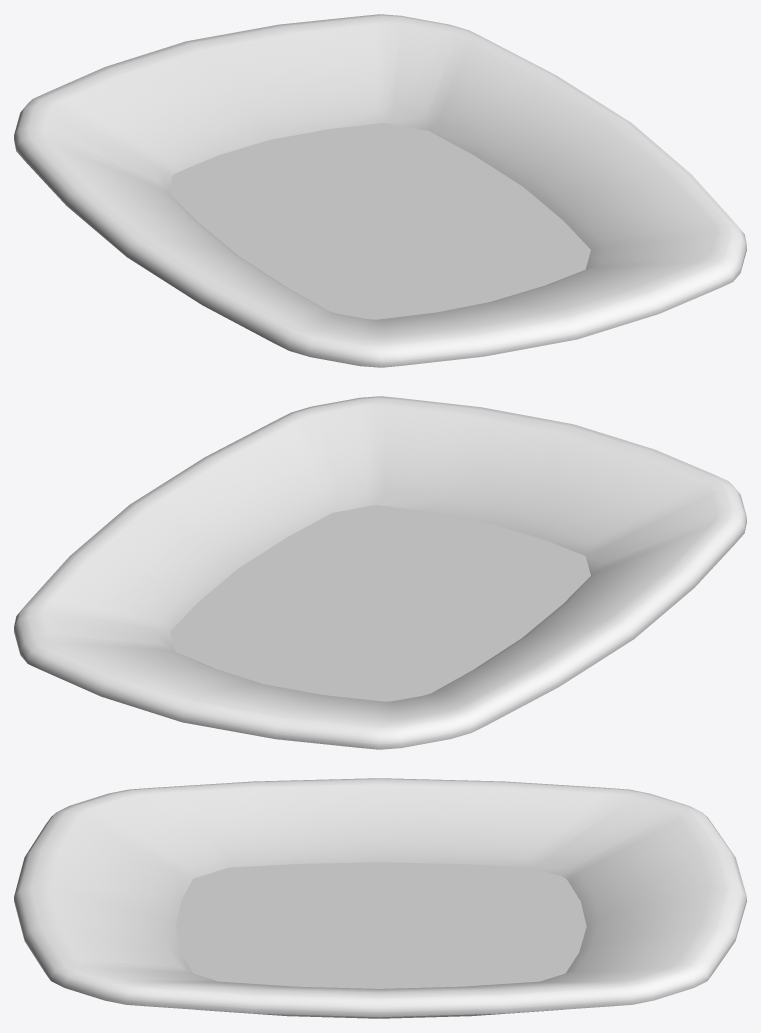
Rendered from plate_001.fbx.
3 renders of one model, top to bottom at view 1: azimuth 30°, elevation 25°; view 2: azimuth 150°, elevation 25°; view 3: azimuth 270°, elevation 25°, orthographic. The views are drawn at different scales.
Visible parts, largest first — view 1: plate_001; view 2: plate_001; view 3: plate_001.
Part boxes in pixels (bbox=[...]): plate_001: bbox=[14, 14, 746, 367]; plate_001: bbox=[14, 396, 746, 749]; plate_001: bbox=[14, 778, 746, 1018].
Bounding box in the file's own units: 23.87 × 32.1 × 2.2.
